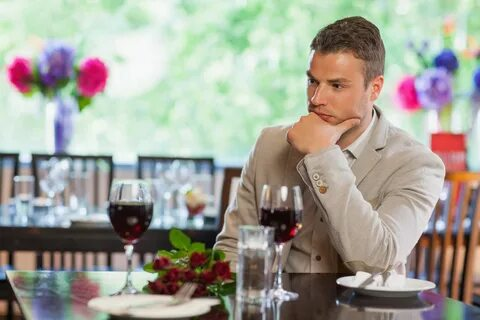awake: (212, 15, 446, 274)
